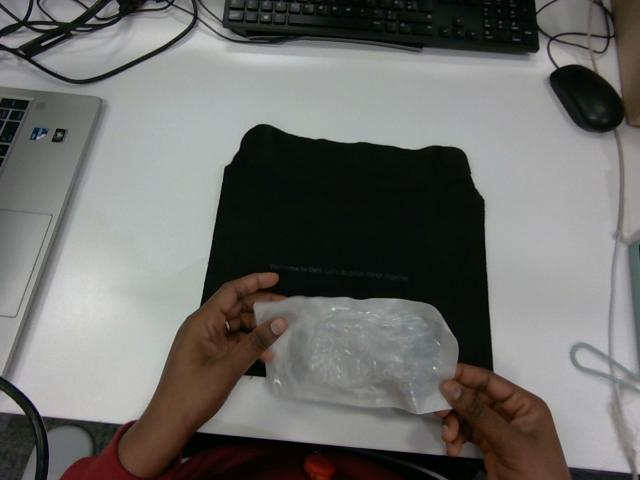gallipot: (254, 297, 457, 413)
